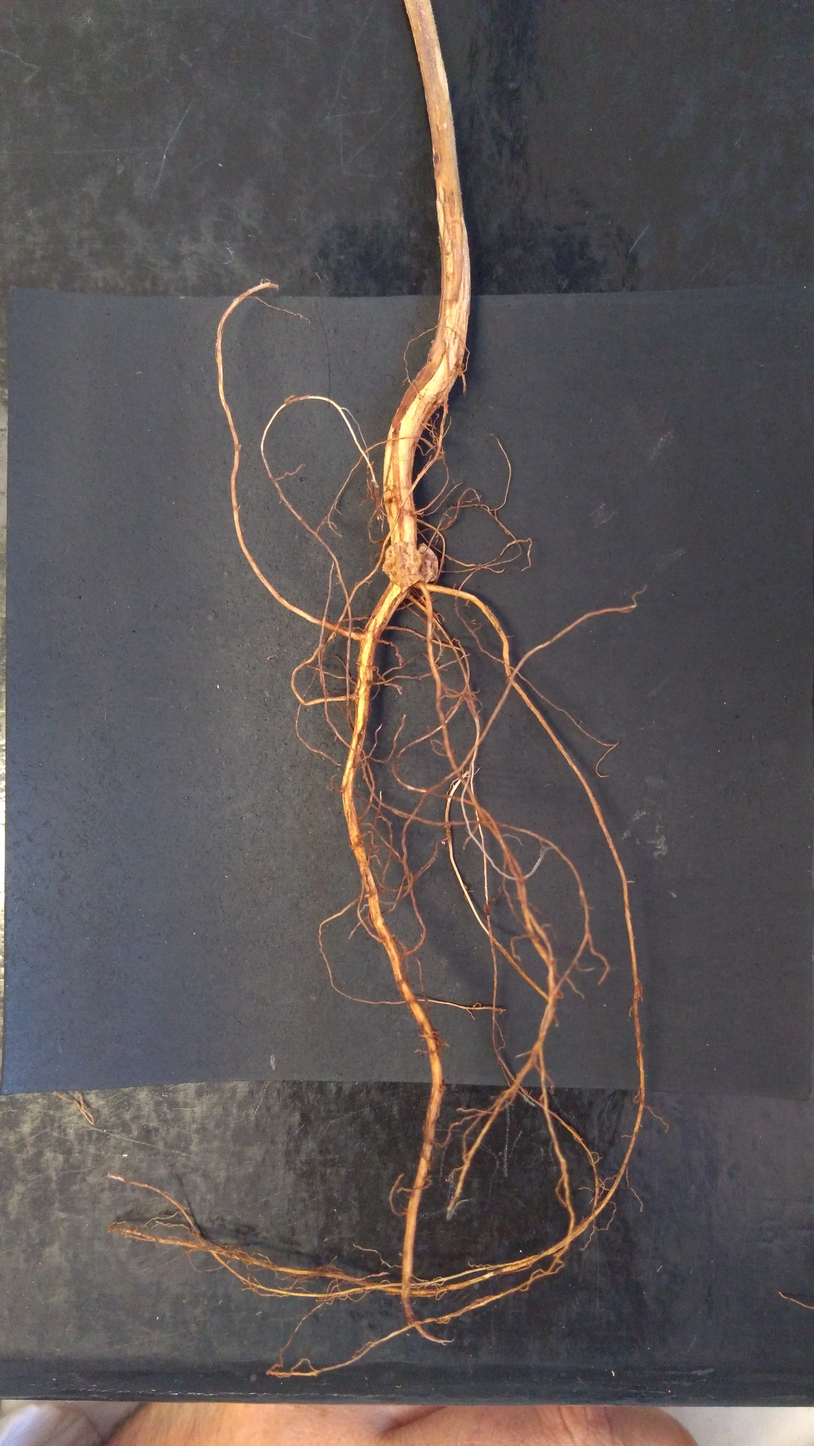nodule: (381, 541, 423, 587), (414, 542, 439, 584), (476, 564, 484, 570), (370, 461, 374, 465), (367, 465, 370, 468)
